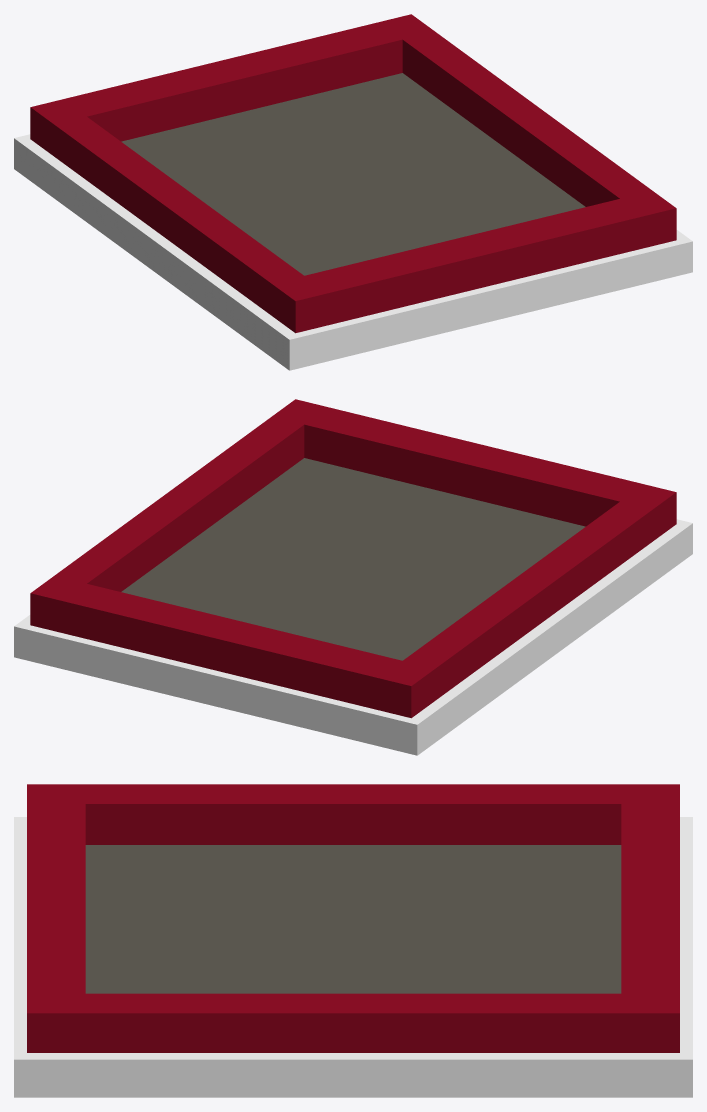
Rendered from CityBuildingA_02_roof.fbx.
The picture shows the model from 3 angles, top to bottom: view 1: azimuth 30°, elevation 25°; view 2: azimuth 150°, elevation 25°; view 3: azimuth 270°, elevation 25°; orthographic projection. The views are drawn at different scales.
Visible parts, largest first — view 1: CityBuildingA_02_roof; view 2: CityBuildingA_02_roof; view 3: CityBuildingA_02_roof.
Boxes of the visible parts, x1,y1,x2,y2 form: CityBuildingA_02_roof: [14, 14, 692, 370]; CityBuildingA_02_roof: [14, 399, 692, 755]; CityBuildingA_02_roof: [14, 784, 692, 1097].
Size of the model in its own units: 0.4778 by 0.0713 by 0.5653.
